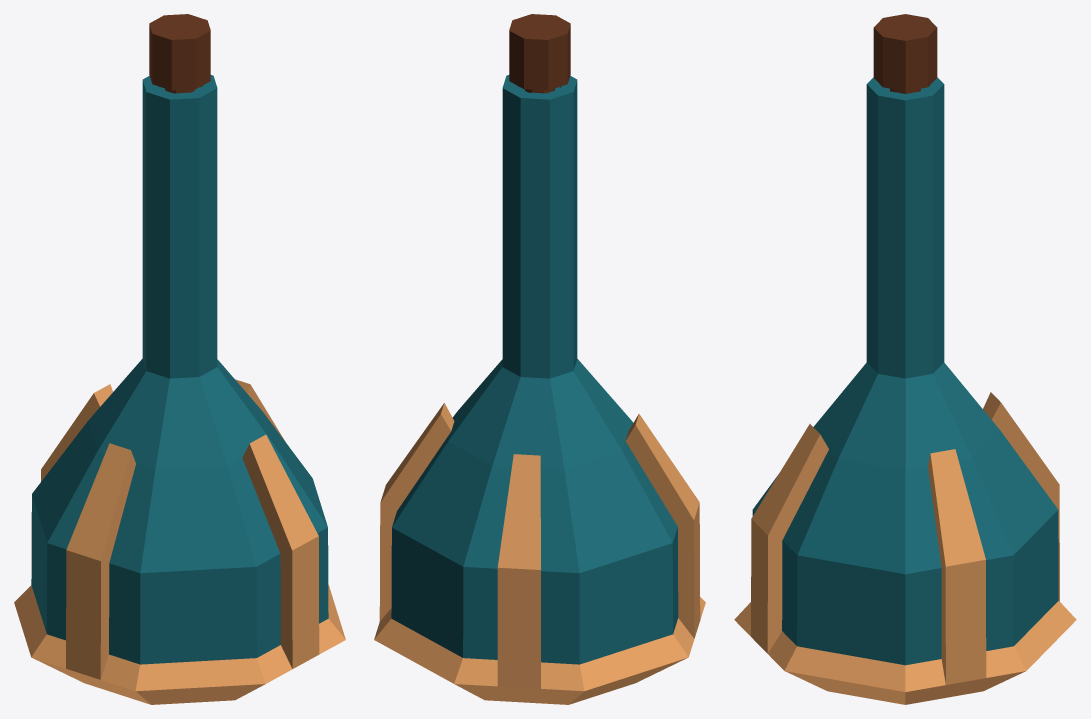
The model's file is potion_cyan.glb.
3 views of the same model, side by side, from view 1: azimuth 30°, elevation 25°; view 2: azimuth 150°, elevation 25°; view 3: azimuth 270°, elevation 25° (orthographic).
Parts seen in each view (by area): view 1: Potion; view 2: Potion; view 3: Potion.
Part boxes in pixels (box(x1,y1,x2,y2)): Potion: box(14, 14, 345, 704); Potion: box(374, 14, 705, 704); Potion: box(734, 14, 1076, 704).
Bounding box in the file's own units: 0.5738 × 1.17 × 0.5738.
